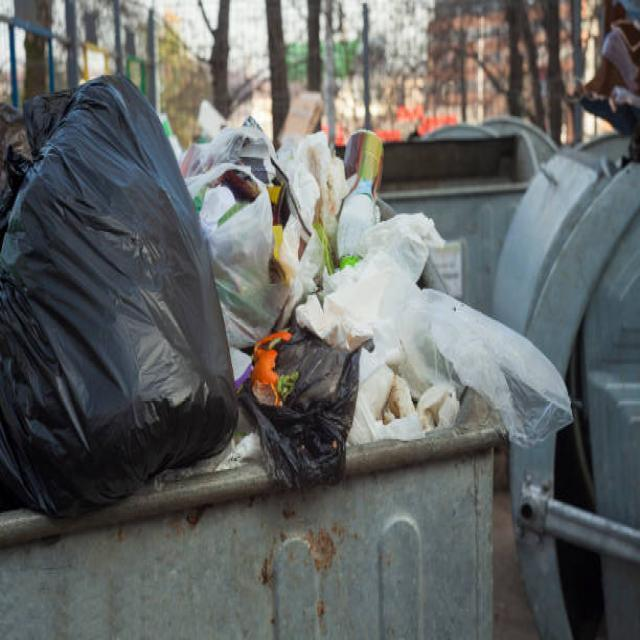garbage: (1, 66, 248, 526), (244, 328, 370, 491), (200, 152, 276, 331), (339, 129, 388, 248)
